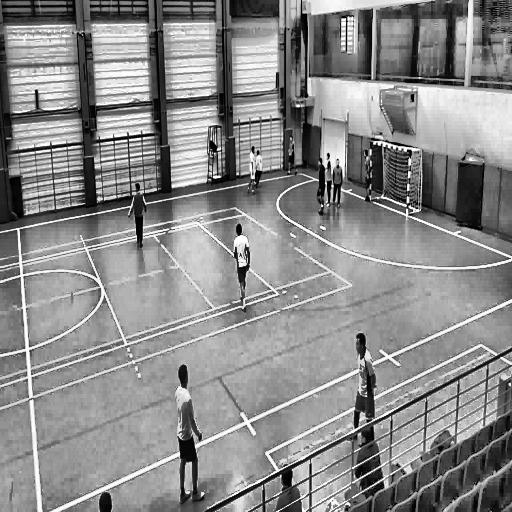player: (169, 358, 209, 504), (231, 220, 252, 318), (128, 179, 149, 250), (316, 156, 325, 216), (286, 135, 298, 178), (248, 145, 257, 197), (333, 158, 342, 210), (325, 152, 333, 207), (364, 148, 372, 203), (254, 150, 264, 191)
